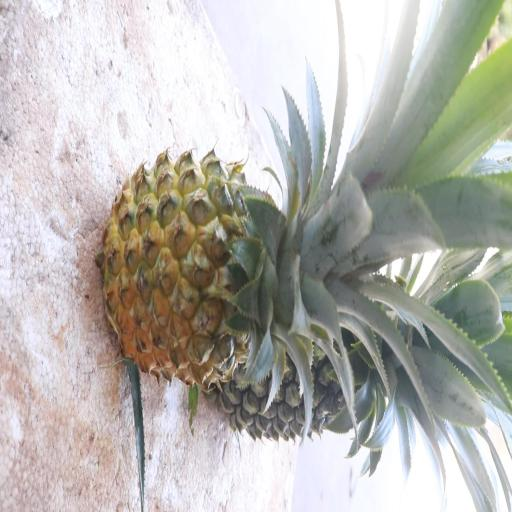Pineapple - v8 v1: (97, 146, 338, 389)
